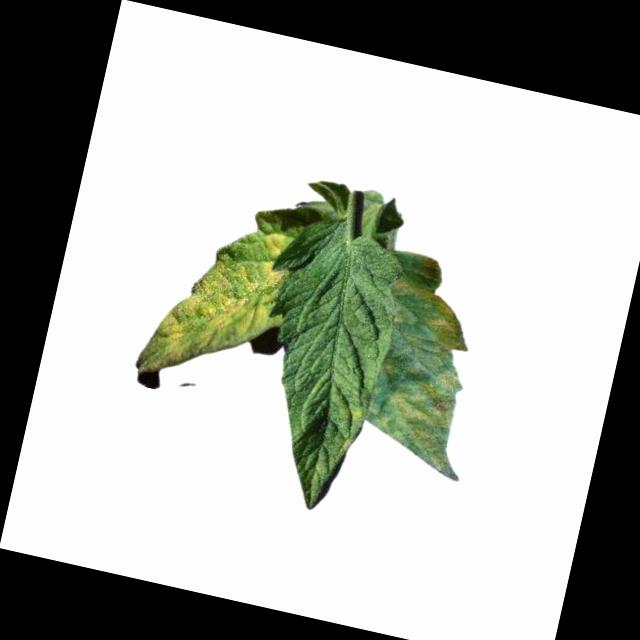Leaf_Mold: (356, 251, 502, 482), (132, 208, 301, 403), (332, 406, 366, 454)
